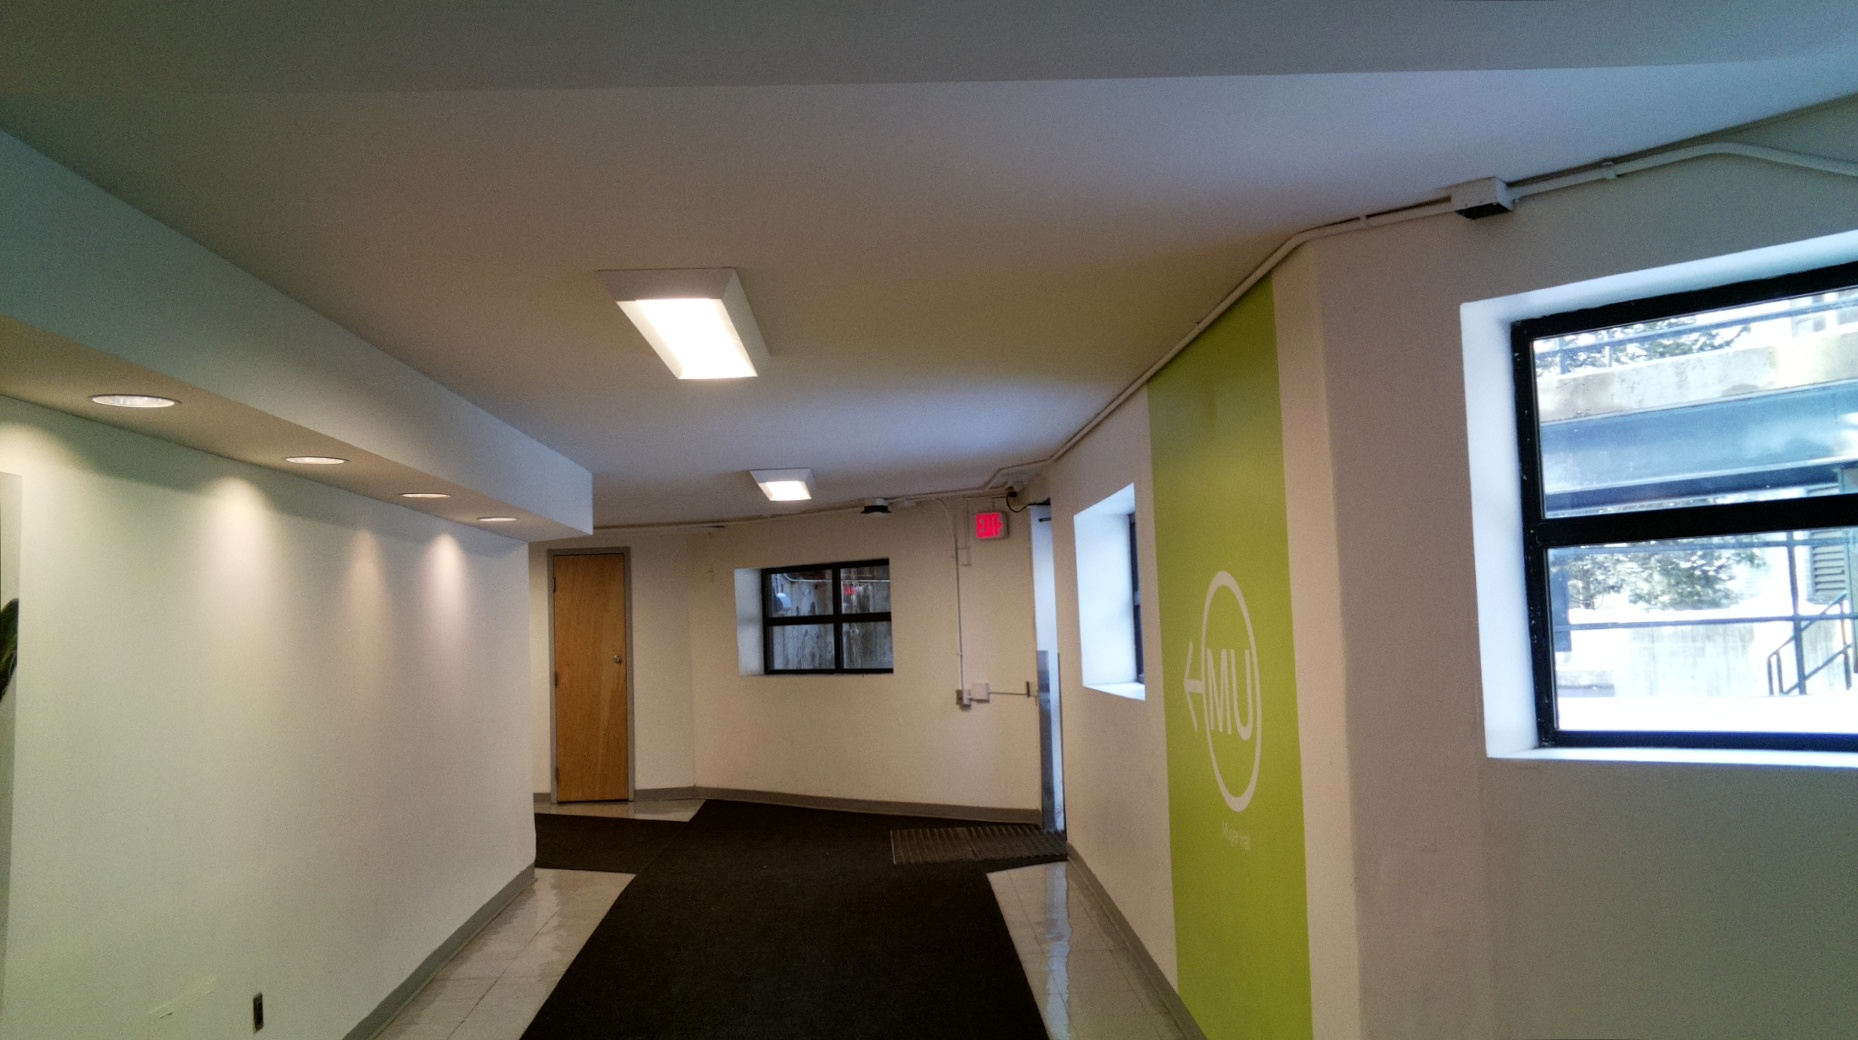exit sign: (972, 509, 1009, 544)
